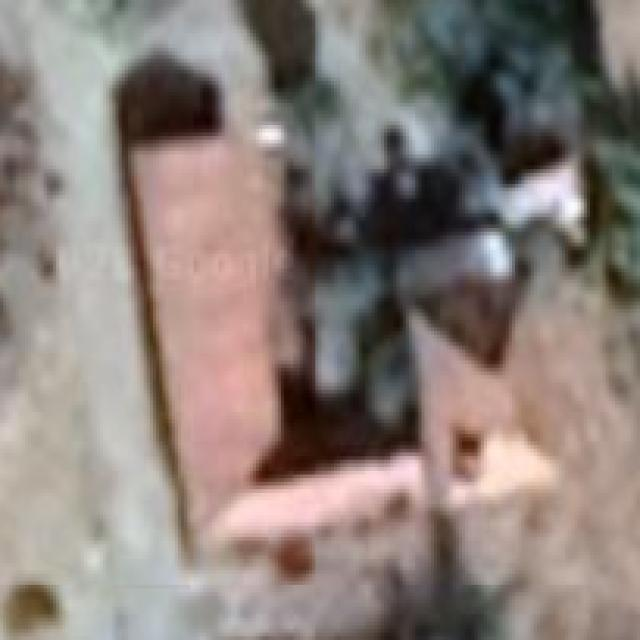Batiment: (121, 60, 550, 553)
